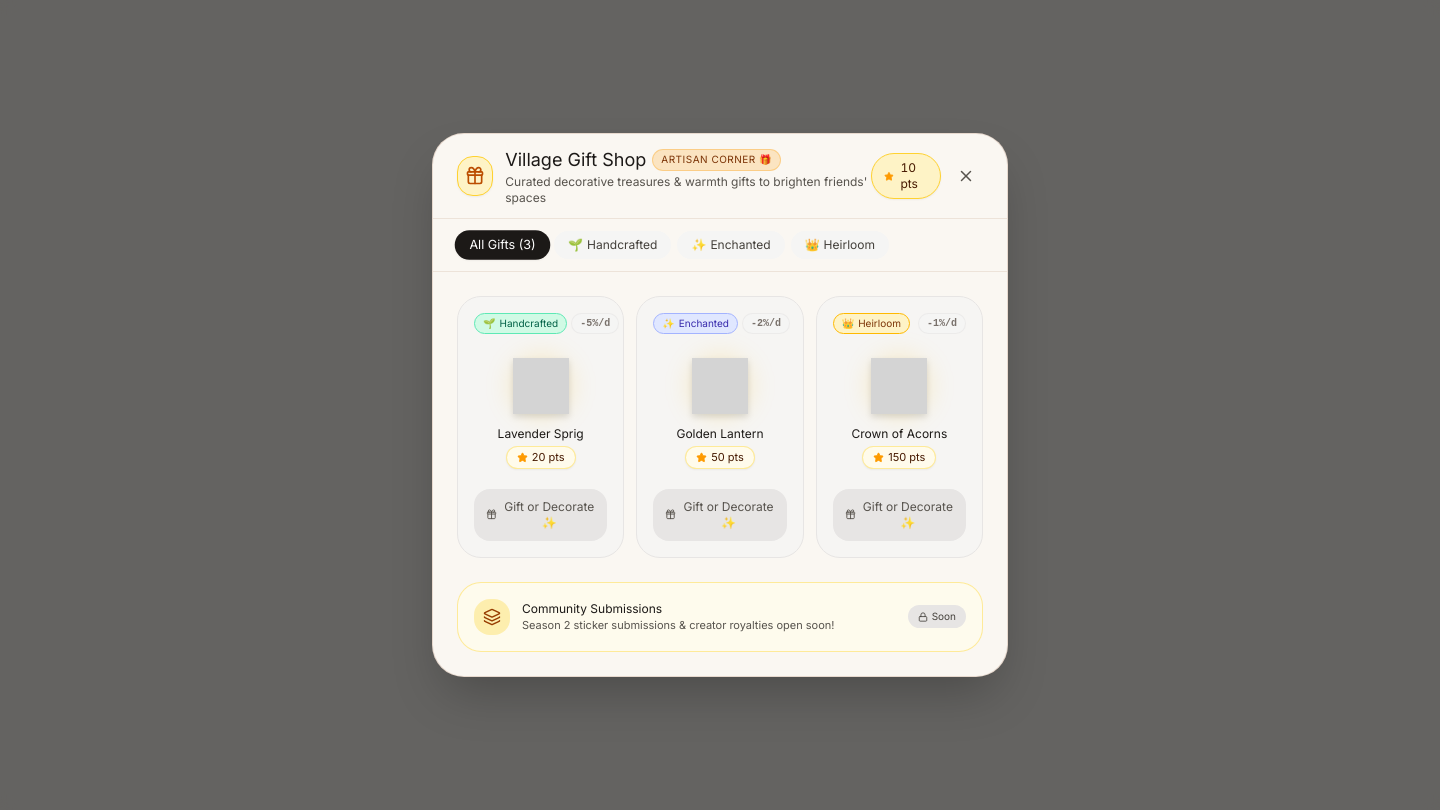
Test: StickerStoreDrawer Component (Village Gift Shop & Positivity Economy) › disables acquire button and shows warning when balance is insufficient
The image size is (1440, 810).
Expected: the heading "Crown of Acorns" is shown, x1=851 y1=426 x2=947 y2=442
Click the button "Gift or Decorate ✨" below "150". click: (899, 515)
box: x1=833 y1=489 x2=966 y2=541
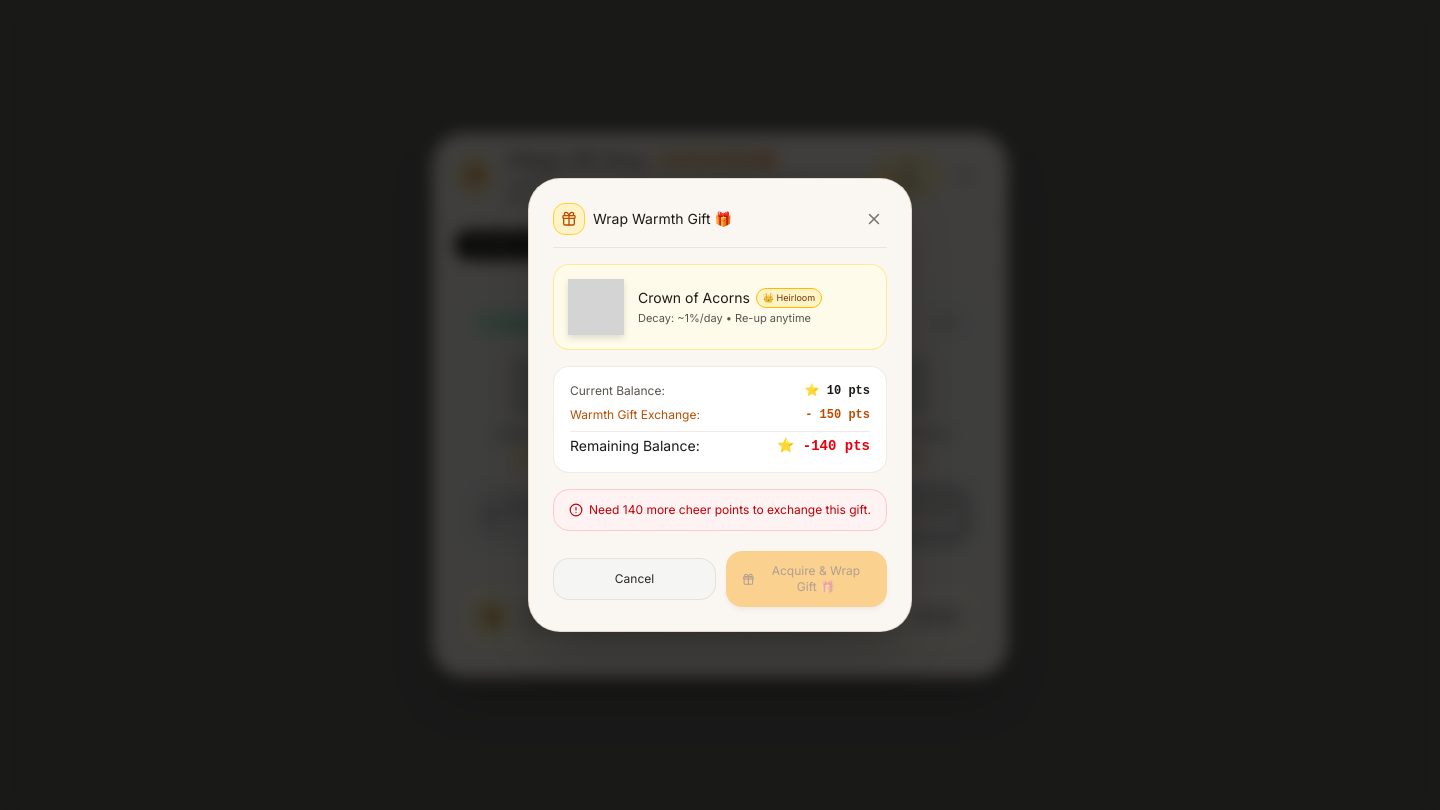
Now the heading "Wrap Warmth Gift 🎁" is shown, box x1=593 y1=209 x2=732 y2=229
Now the text "Need 140 more cheer points to exchange this gift." is shown, box x1=589 y1=502 x2=871 y2=518
Now the button "Acquire & Wrap Gift 🎁" is disabled, box x1=726 y1=551 x2=887 y2=607
